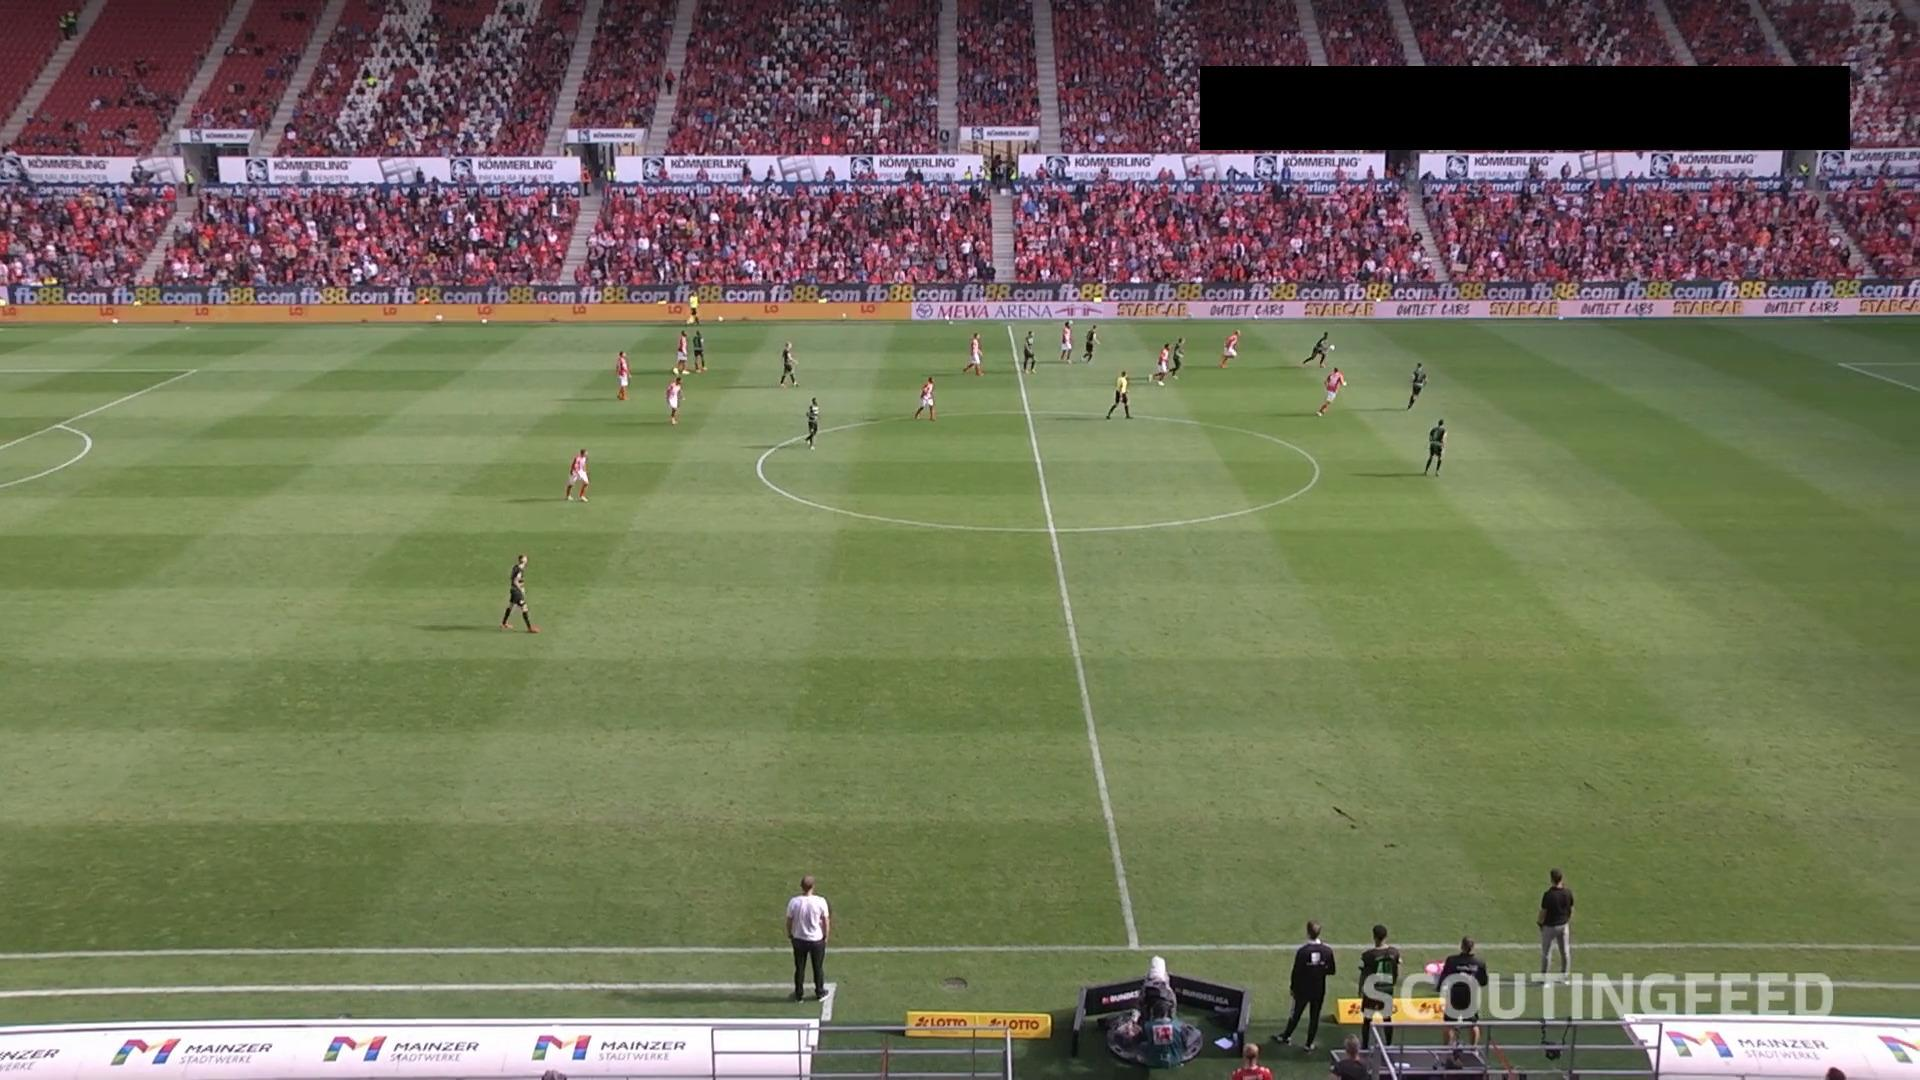ball: (1327, 342, 1339, 352)
player: (499, 553, 540, 633), (1318, 365, 1348, 415), (565, 447, 591, 503), (1424, 418, 1446, 476), (1406, 361, 1429, 411), (778, 341, 801, 389), (1300, 331, 1329, 368), (1150, 342, 1172, 387), (667, 376, 686, 427), (916, 378, 937, 423), (615, 351, 633, 401), (1219, 331, 1242, 369), (966, 332, 984, 378), (672, 328, 689, 376), (1170, 334, 1187, 382), (692, 327, 708, 374), (1082, 324, 1100, 365), (806, 397, 820, 449), (1023, 328, 1038, 373), (1059, 318, 1072, 363)
referee: (1107, 370, 1131, 421), (687, 291, 701, 326)
